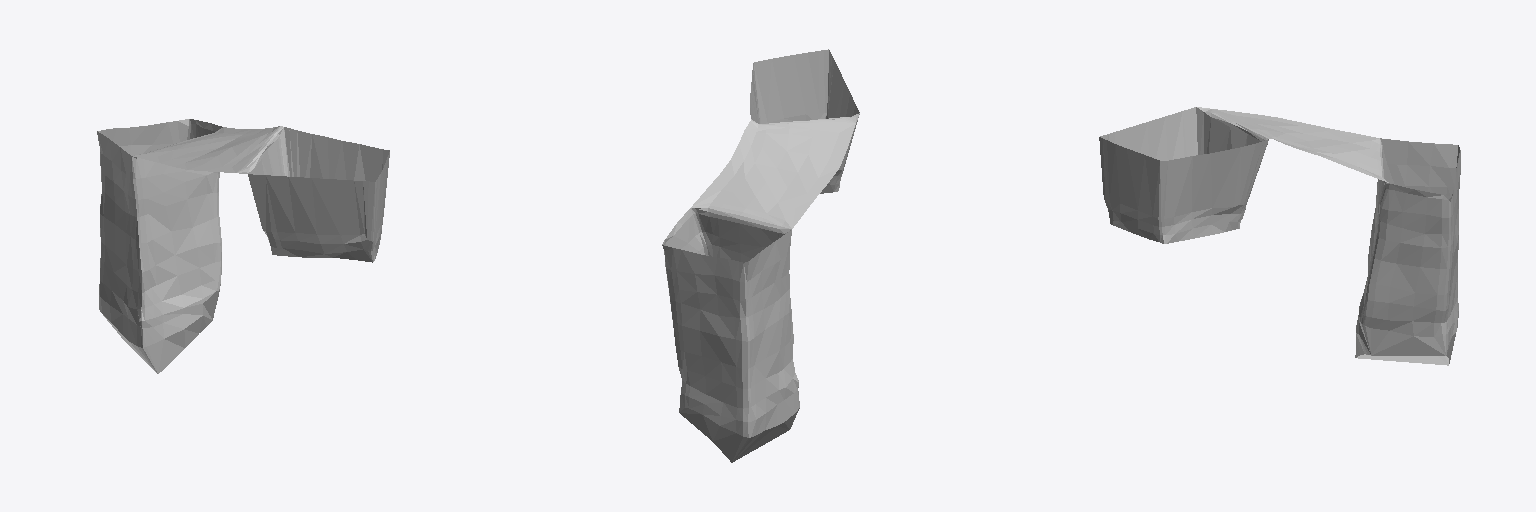
The model's file is Env6_UVLow.obj.
3 views of the same model, side by side, from view 1: azimuth 30°, elevation 25°; view 2: azimuth 150°, elevation 25°; view 3: azimuth 270°, elevation 25° (orthographic).
Parts seen in each view (by area): view 1: Env6_UVlow:Mesh; view 2: Env6_UVlow:Mesh; view 3: Env6_UVlow:Mesh.
Part boxes in pixels (x1,y1,x2,y2): Env6_UVlow:Mesh: (97,119,389,373); Env6_UVlow:Mesh: (662,49,859,462); Env6_UVlow:Mesh: (1099,107,1460,365).
Bounding box in the file's own units: 31.43 × 53.85 × 66.2.